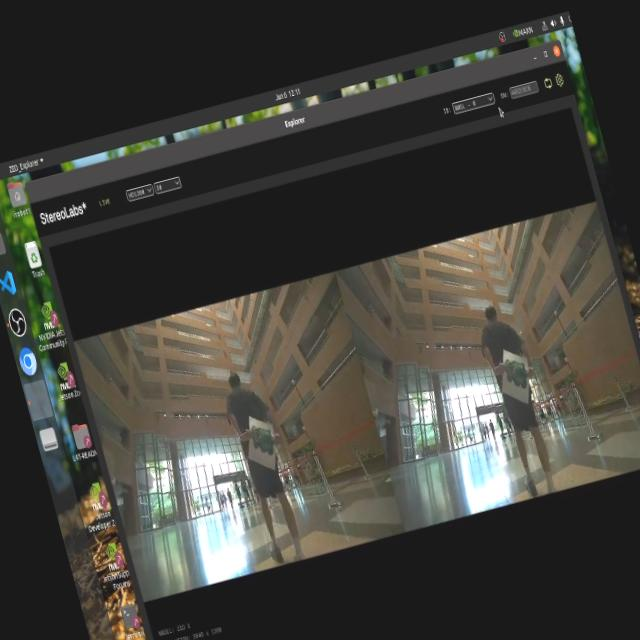green: (245, 412, 289, 462)
